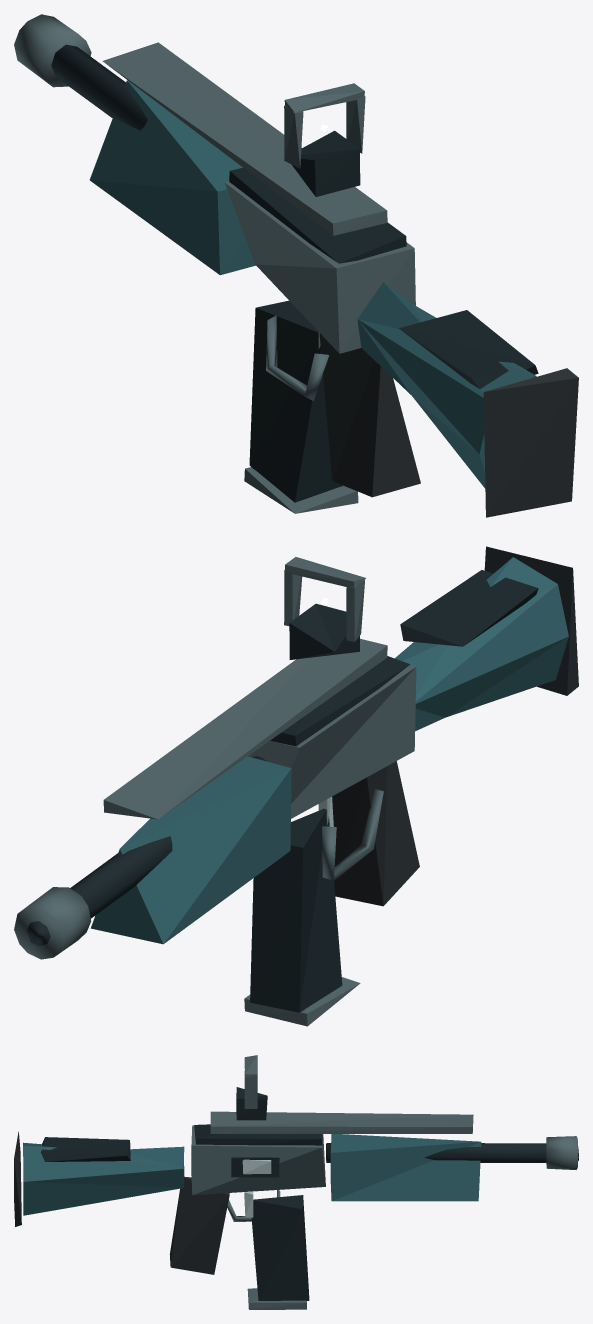
The model's file is ar7-rifle.low.glb.
3 renders of one model, top to bottom at view 1: azimuth 30°, elevation 25°; view 2: azimuth 150°, elevation 25°; view 3: azimuth 270°, elevation 25°, orthographic. The views are drawn at different scales.
Visible parts, largest first — view 1: geometry:body:1, geometry:body:3, geometry:body:0, geometry:body:4, geometry:magazine:5, geometry:magazine:6; view 2: geometry:body:1, geometry:body:3, geometry:body:4, geometry:magazine:5, geometry:body:0, geometry:magazine:6; view 3: geometry:body:3, geometry:body:1, geometry:body:4, geometry:magazine:5, geometry:body:0, geometry:magazine:6, geometry:bolt:7.
Boxes of the visible parts, x1=… form: geometry:body:1: x1=14, y1=14, x2=415, y2=400; geometry:body:3: x1=89, y1=80, x2=536, y2=488; geometry:body:0: x1=319, y1=333, x2=578, y2=517; geometry:body:4: x1=51, y1=44, x2=538, y2=388; geometry:magazine:5: x1=249, y1=300, x2=342, y2=502; geometry:magazine:6: x1=244, y1=467, x2=358, y2=513; geometry:body:1: x1=14, y1=557, x2=416, y2=959; geometry:body:3: x1=90, y1=557, x2=568, y2=944; geometry:body:4: x1=27, y1=570, x2=538, y2=945; geometry:magazine:5: x1=250, y1=808, x2=342, y2=1012; geometry:body:0: x1=332, y1=546, x2=578, y2=906; geometry:magazine:6: x1=244, y1=977, x2=360, y2=1026; geometry:body:3: x1=23, y1=1134, x2=481, y2=1215; geometry:body:1: x1=191, y1=1055, x2=578, y2=1221; geometry:body:4: x1=41, y1=1087, x2=578, y2=1177; geometry:magazine:5: x1=251, y1=1195, x2=309, y2=1300; geometry:body:0: x1=14, y1=1131, x2=229, y2=1274; geometry:magazine:6: x1=247, y1=1288, x2=306, y2=1309; geometry:bolt:7: x1=242, y1=1159, x2=271, y2=1174.
Size of the model in its own units: 0.164 by 0.663 by 1.44.
